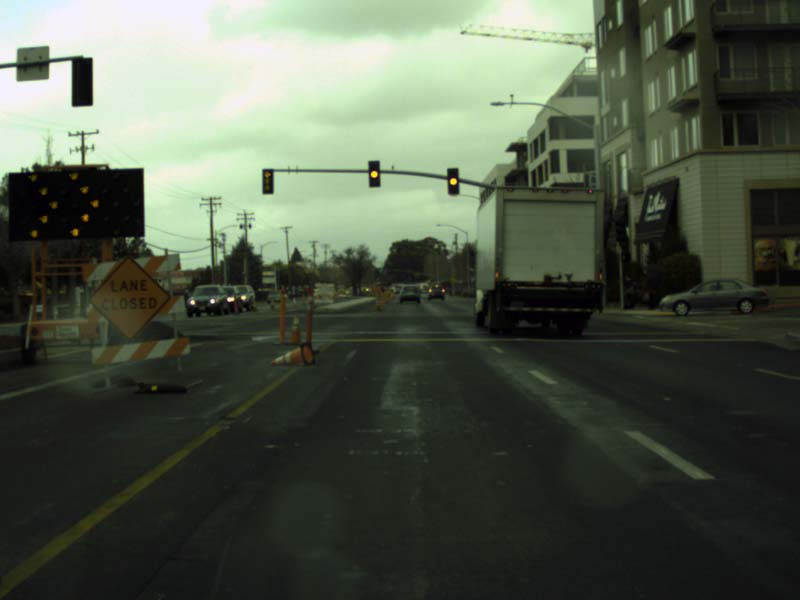Red: (263, 169, 272, 193)
Yellow: (368, 161, 379, 186), (447, 169, 458, 193)
